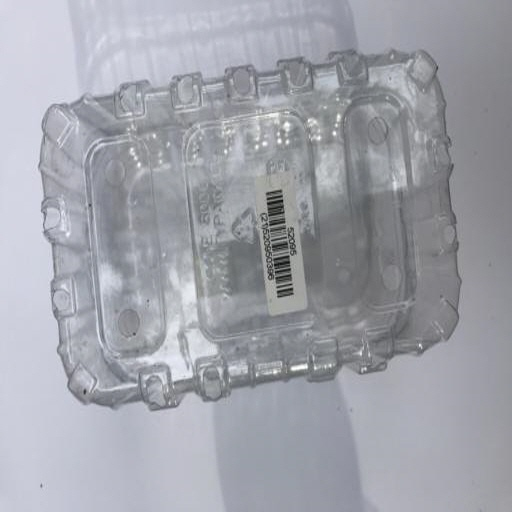Plastic_4: (39, 51, 461, 410)
